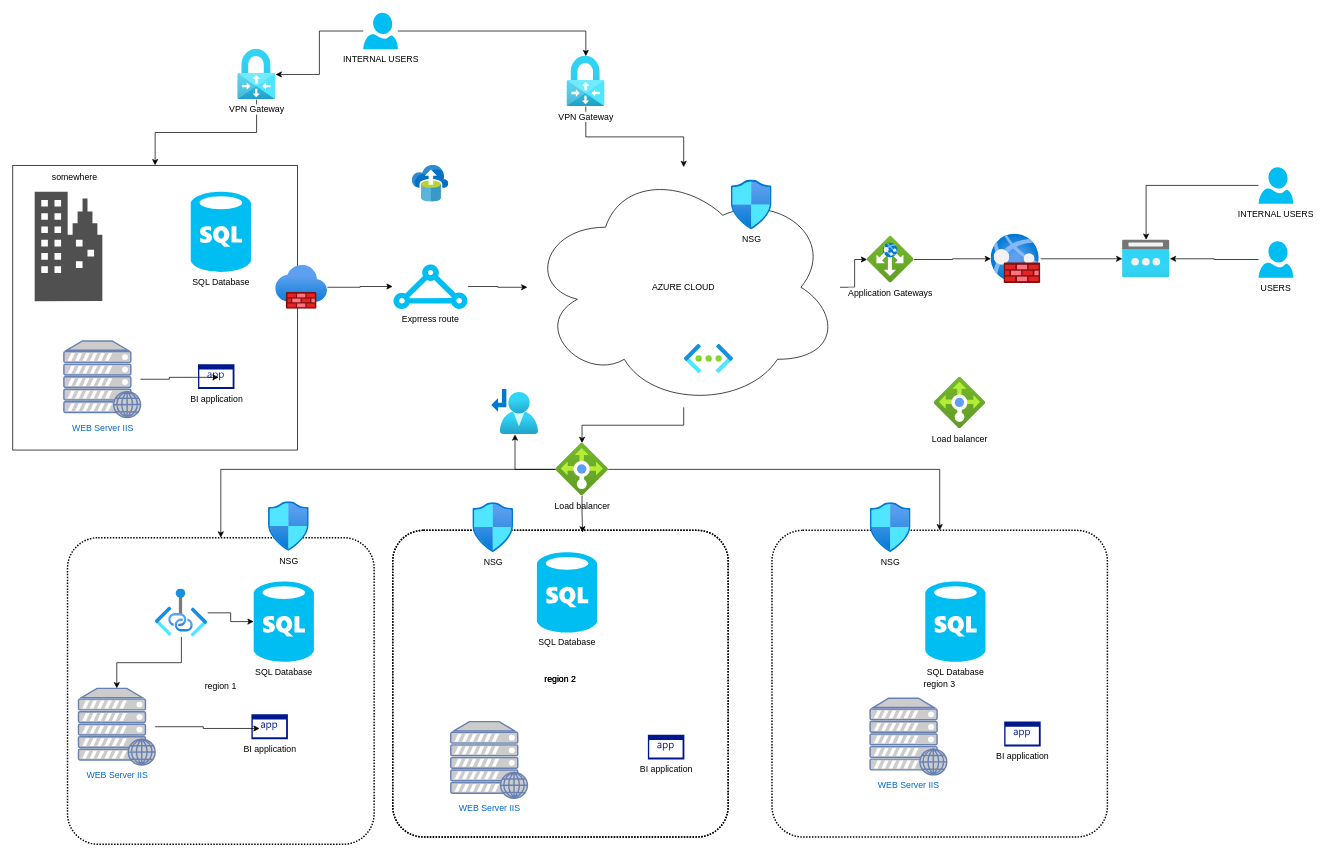
This 1326x857 diagram has some shape labels left out. Each missing label, with the centre of its shape:
Azure database migration services: [430,183]
Firewall: [301,287]
On-Premise: [68,246]
Private Link: [181,612]
Public IP address: [1145,258]
Route Tables: [514,411]
VNET: [708,358]
WAF: [1015,258]
